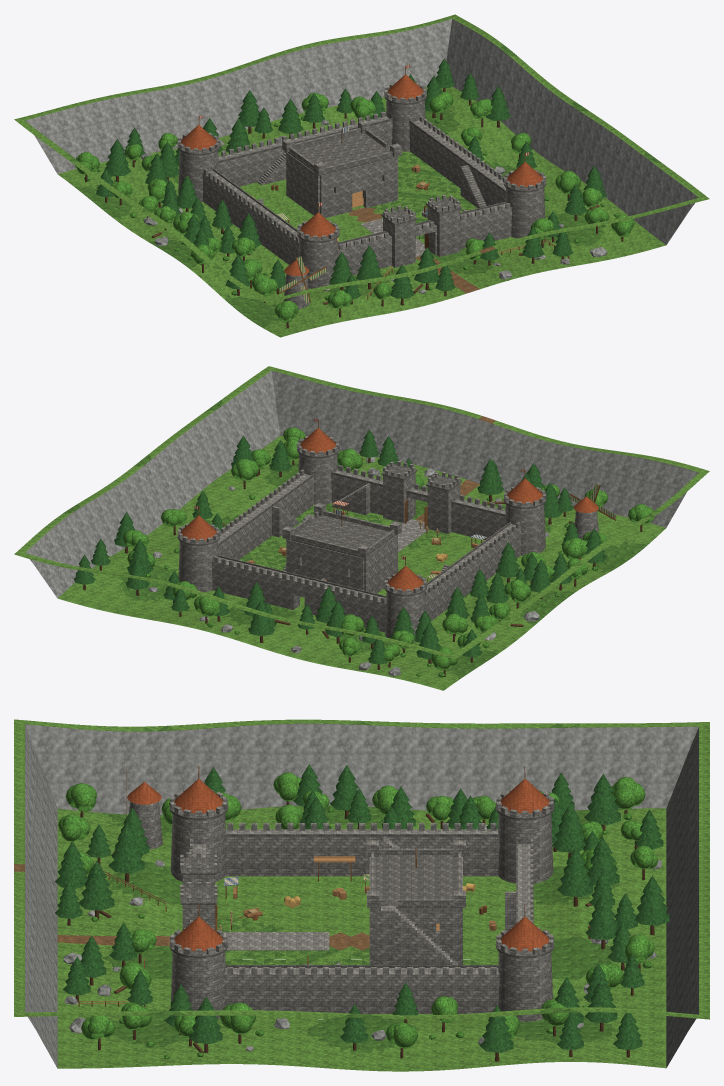
The model's file is map_keep.glb.
3 renders of one model, top to bottom at view 1: azimuth 30°, elevation 25°; view 2: azimuth 150°, elevation 25°; view 3: azimuth 270°, elevation 25°, orthographic. The views are drawn at different scales.
Parts seen in each view (by area): view 1: rock, grass, stone, pine, leaves, grassdark, stonedark, rooftile, nocol_stone, bark, dirt, wood; view 2: rock, stone, grass, pine, leaves, grassdark, stonedark, rooftile, nocol_stone, bark, wood; view 3: grass, rock, stone, pine, grassdark, leaves, stonedark, rooftile, nocol_stone, bark, dirt, woodlight (+1 smaller).
Part boxes in pixels (x1,y1,x2,y2): rock: (25,19,698,293); grass: (14,14,709,337); stone: (177,82,546,308); pine: (96,58,607,298); leaves: (75,91,634,322); grassdark: (62,44,661,328); stonedark: (177,94,546,244); rooftile: (181,74,542,275); nocol_stone: (257,148,486,211); bark: (85,88,623,328); dirt: (348,207,495,293); wood: (198,65,569,302); rock: (25,370,698,676); stone: (177,436,598,641); grass: (14,366,709,690); pine: (74,429,606,664); leaves: (123,427,654,677); grassdark: (62,400,660,679); stonedark: (177,448,546,597); rooftile: (181,428,598,591); nocol_stone: (272,483,449,581); bark: (83,457,642,676); wood: (198,419,615,582); grass: (14,719,709,1071); rock: (25,723,698,1068); stone: (129,789,553,1021); pine: (55,764,669,1052); grassdark: (101,721,621,1052); leaves: (58,772,658,1059); stonedark: (169,805,554,967); rooftile: (127,779,549,951); nocol_stone: (334,836,516,964); bark: (67,801,654,1061); dirt: (14,864,369,950); woodlight: (79,856,496,1003).
Size of what is drawn, in the model's own units: 128 by 22.64 by 128.
Materials: 19 (19 with a texture image).
